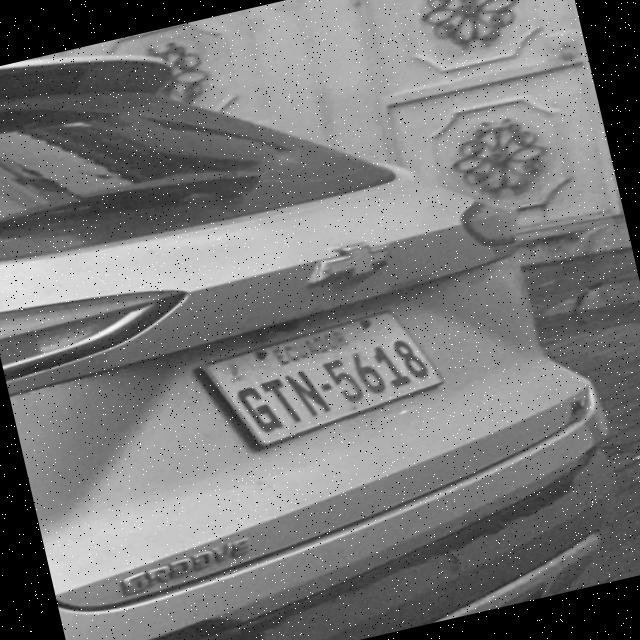Placa: (208, 313, 442, 445)
